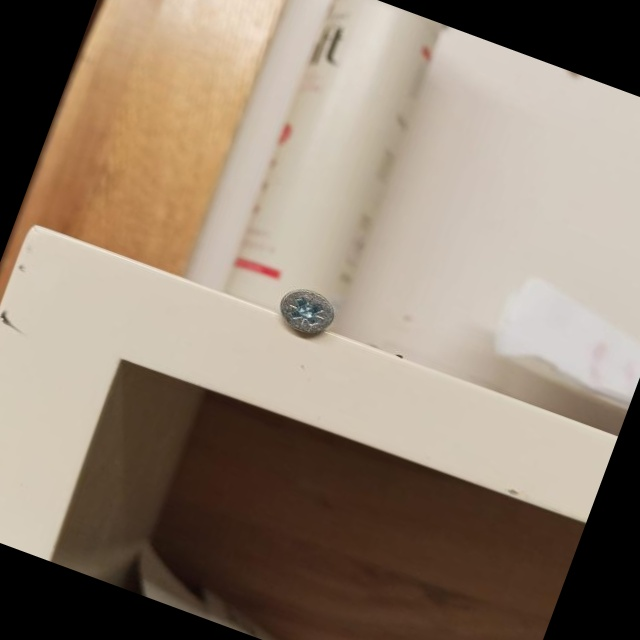pozidriv: (273, 282, 340, 341)
